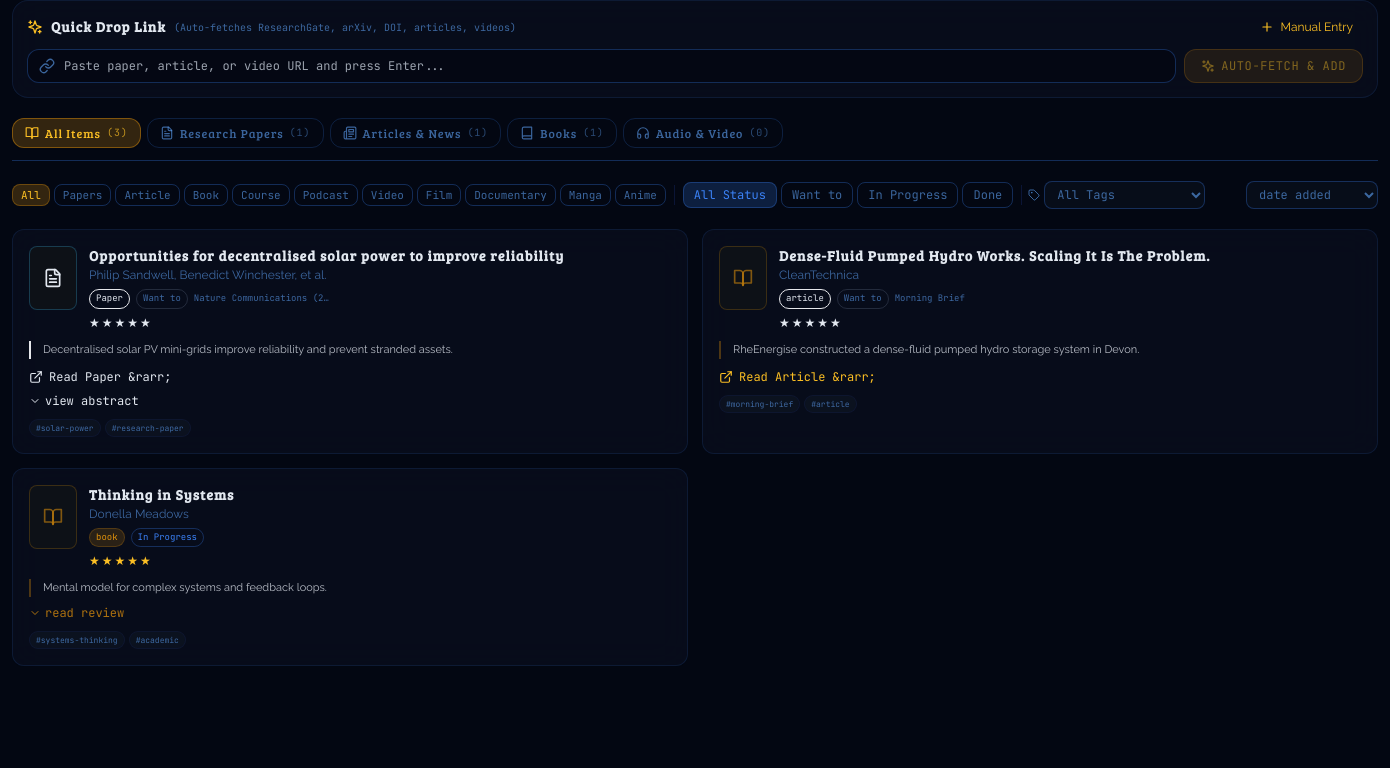
Test: MediaLog › filters by sub-view categories when clicking sub-view tabs
Check: the heading "Thinking in Systems" is shown, box 89,485 -> 234,504
Click Research Papers sub-view
Click the button "Research Papers (1)". click: (235, 133)
box: 147,118 -> 324,148
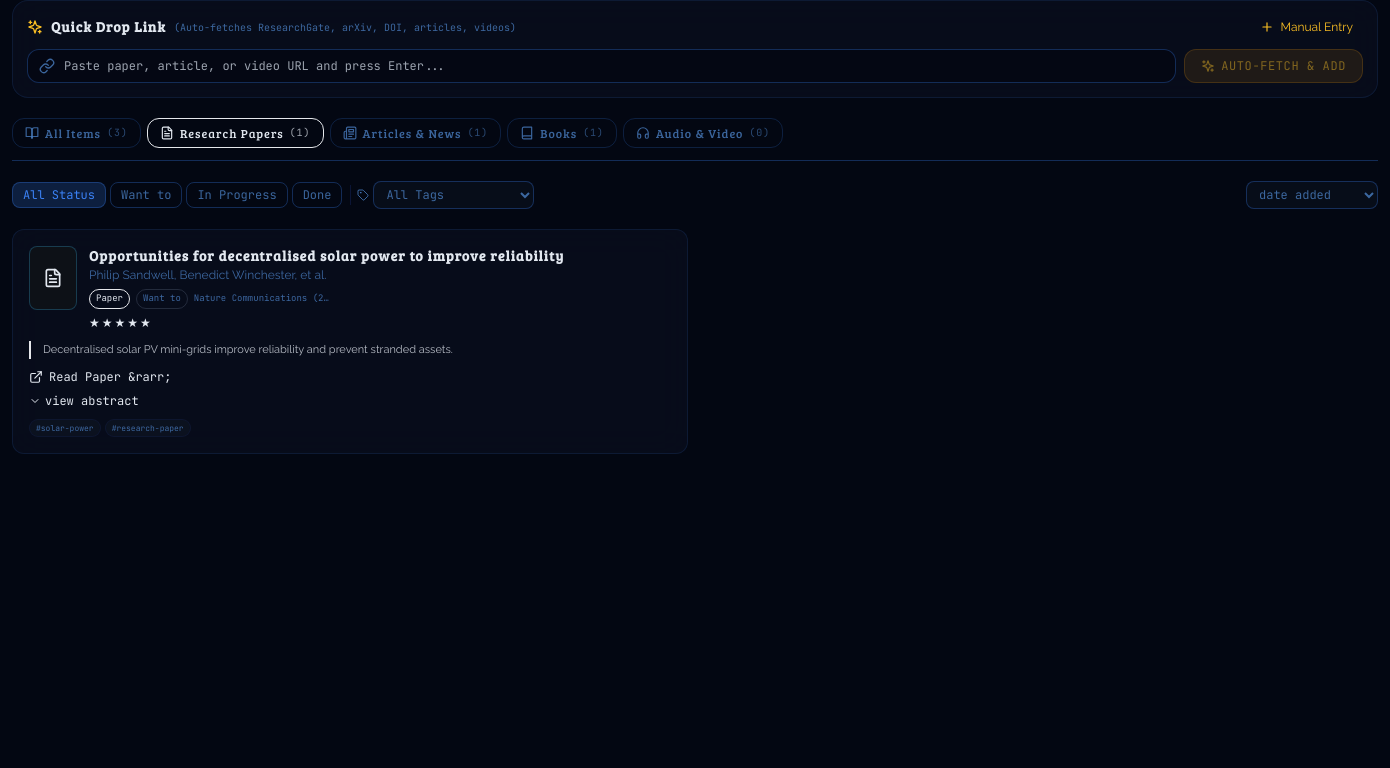
Check: the heading "Opportunities for decentralised solar power to improve reliability" is shown, box 89,246 -> 611,265
Check: the heading "Thinking in Systems" is gone
Check: the heading "Dense-Fluid Pumped Hydro Works. Scaling It Is The Problem." is gone
Click Books sub-view
Click the button "Books (1)". click: (562, 133)
box: 507,118 -> 617,148
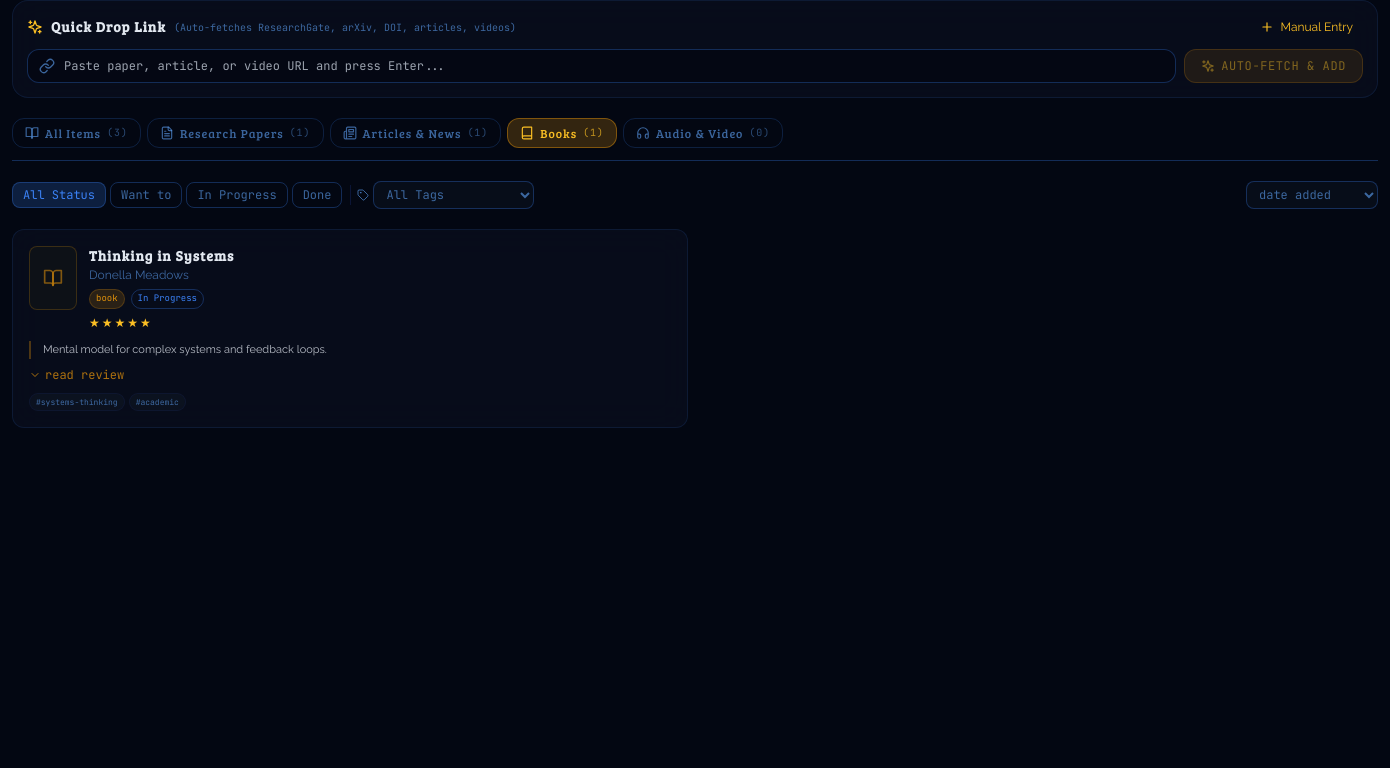
Check: the heading "Thinking in Systems" is shown, box 89,246 -> 234,265
Check: the heading "Opportunities for decentralised solar power to improve reliability" is gone
